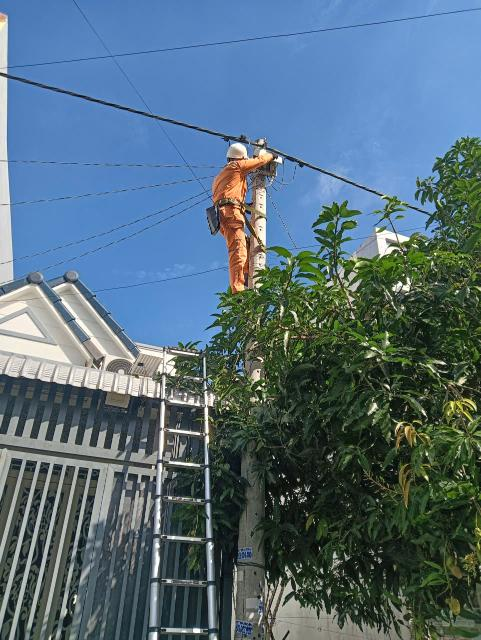gloves: (268, 148, 278, 163)
harness: (204, 193, 254, 211)
helmet: (224, 139, 251, 164)
